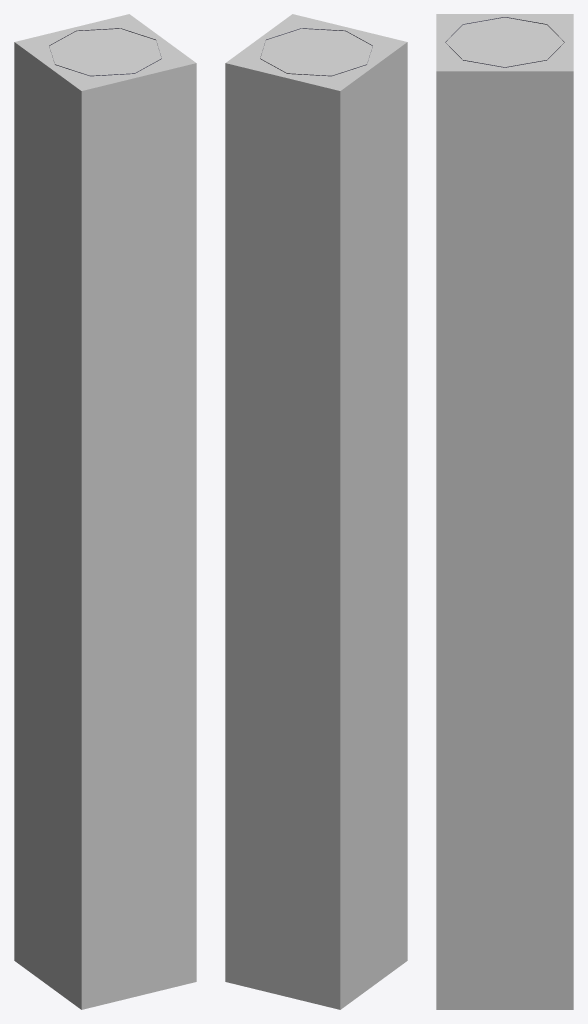
The model's file is Scene_Build_TianShan_ZhuZi_1.FBX.
The picture shows the model from 3 angles, left to right: view 1: azimuth 30°, elevation 25°; view 2: azimuth 150°, elevation 25°; view 3: azimuth 270°, elevation 25°; orthographic projection. The views are drawn at different scales.
Parts seen in each view (by area): view 1: Scene_Build_TianShan_ZhuZi_1_Xzm; view 2: Scene_Build_TianShan_ZhuZi_1_Xzm; view 3: Scene_Build_TianShan_ZhuZi_1_Xzm.
Part boxes in pixels (x1=…): Scene_Build_TianShan_ZhuZi_1_Xzm: x1=14, y1=14, x2=196, y2=1009; Scene_Build_TianShan_ZhuZi_1_Xzm: x1=225, y1=14, x2=407, y2=1009; Scene_Build_TianShan_ZhuZi_1_Xzm: x1=436, y1=14, x2=573, y2=1009.
Size of the model in its own units: 114 by 869 by 115.
